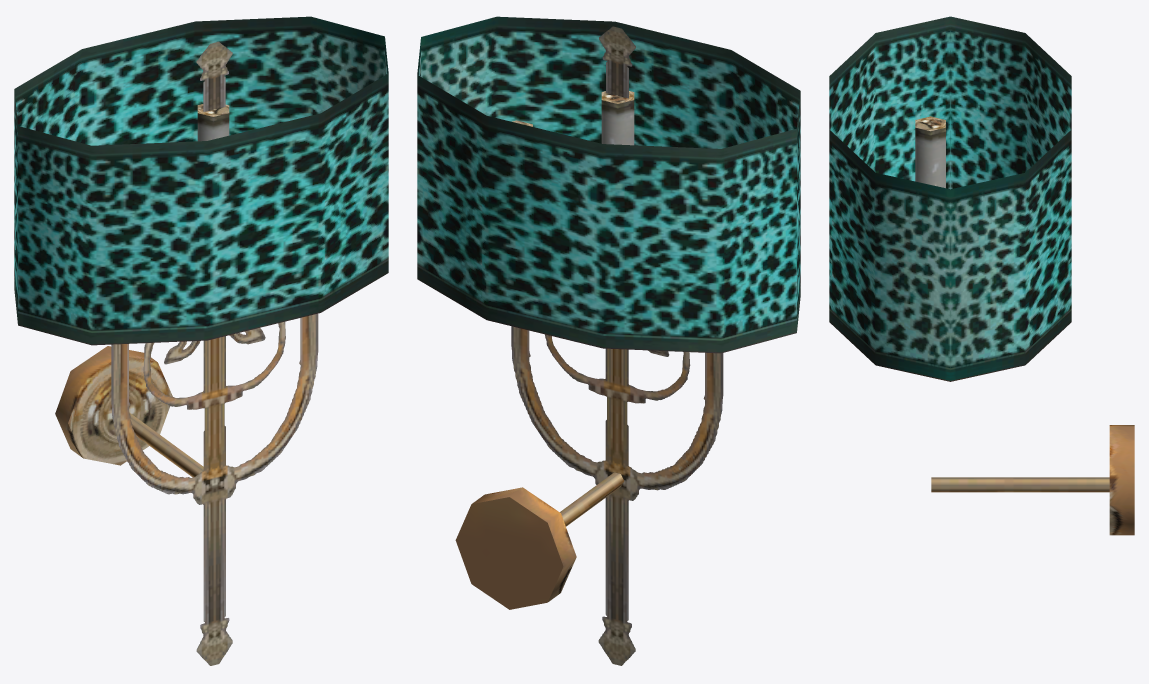
File: furni_0200149_03.FBX
The picture shows the model from 3 angles, left to right: view 1: azimuth 30°, elevation 25°; view 2: azimuth 150°, elevation 25°; view 3: azimuth 270°, elevation 25°; orthographic projection. The views are drawn at different scales.
Parts seen in each view (by area): view 1: furni_0200149_03; view 2: furni_0200149_03; view 3: furni_0200149_03.
Part boxes in pixels (left/top/right/bottom): furni_0200149_03: left=14, top=16, right=388, bottom=665; furni_0200149_03: left=417, top=16, right=800, bottom=665; furni_0200149_03: left=829, top=16, right=1134, bottom=535.
Bounding box in the file's own units: 33.28 × 53.94 × 24.85.
Materials: 1 (1 with a texture image).
